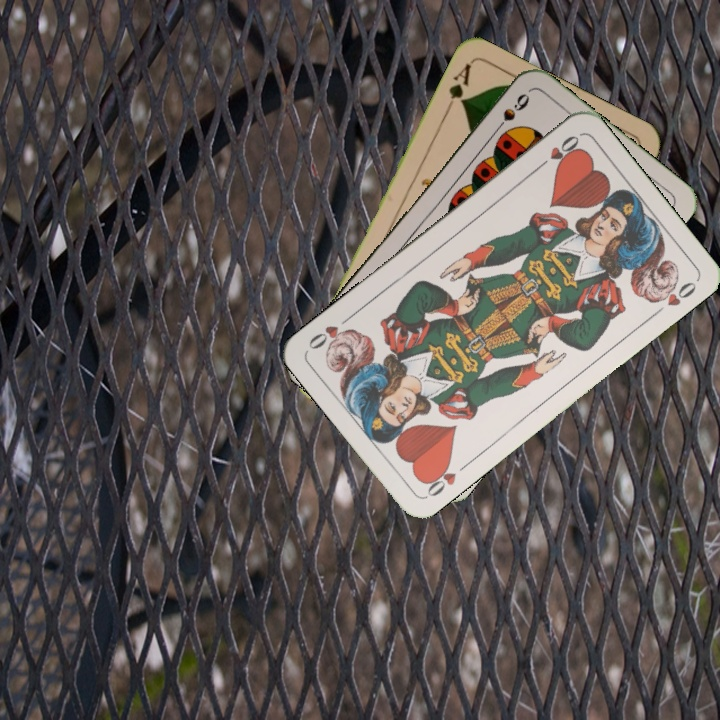GA: (442, 59, 474, 115)
HO: (419, 457, 472, 501), (532, 131, 582, 173)
S9: (489, 88, 533, 137)
